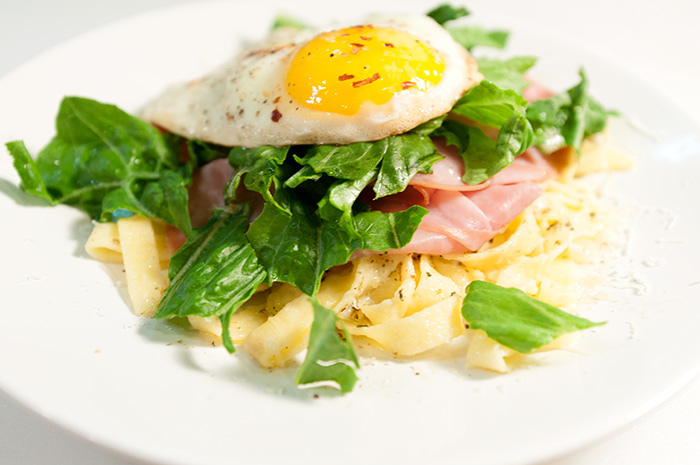chopped lettuce: (158, 152, 381, 267)
fried egg: (170, 21, 484, 136)
plain spaghetti: (346, 259, 474, 350)
